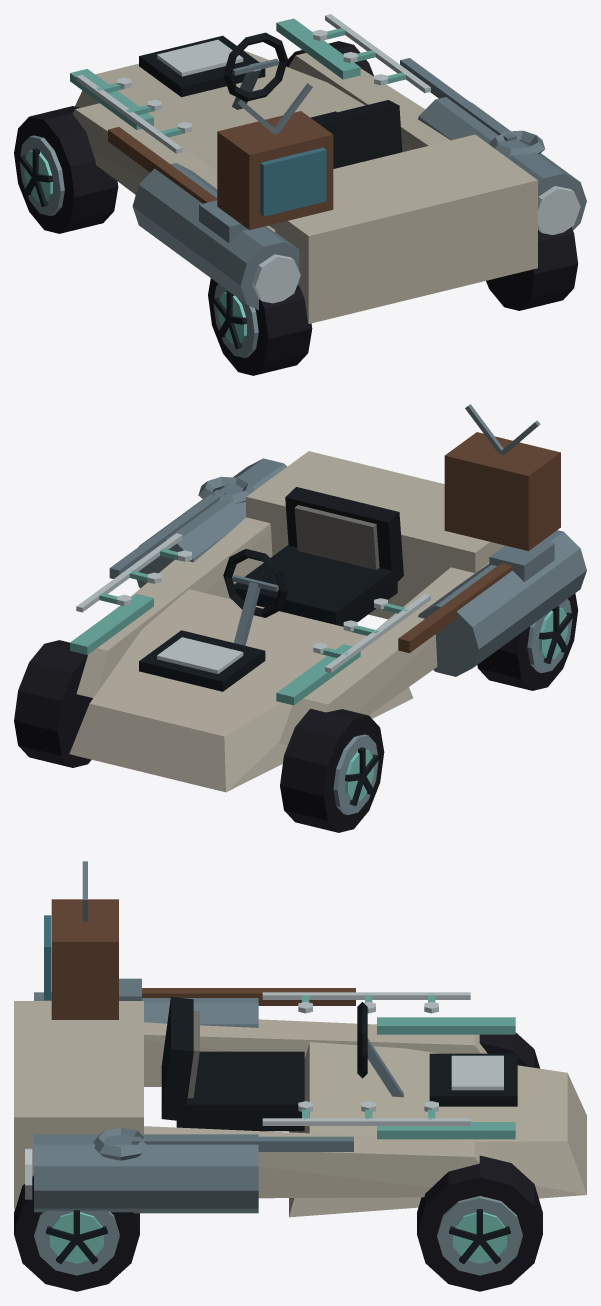
Rendered from kart.glb.
3 renders of one model, top to bottom at view 1: azimuth 30°, elevation 25°; view 2: azimuth 150°, elevation 25°; view 3: azimuth 270°, elevation 25°, orthographic. The views are drawn at different scales.
Parts seen in each view (by area): view 1: identity-lab-pod-lab-pod-segmented-shell, identity-lab-pod-motif-television, wheel-front-left, wheel-rear-left, identity-lab-pod-driver-cockpit, identity-lab-pod-motif-tools, wheel-rear-right, identity-lab-pod-motif-circuit, wheel-front-right; view 2: identity-lab-pod-lab-pod-segmented-shell, identity-lab-pod-driver-cockpit, identity-lab-pod-motif-television, wheel-front-left, wheel-front-right, identity-lab-pod-motif-tools, wheel-rear-left, identity-lab-pod-motif-circuit; view 3: identity-lab-pod-lab-pod-segmented-shell, identity-lab-pod-driver-cockpit, wheel-front-right, identity-lab-pod-motif-television, wheel-rear-right, identity-lab-pod-motif-tools, identity-lab-pod-motif-circuit, wheel-front-left.
Boxes of the visible parts, <box> form: identity-lab-pod-lab-pod-segmented-shell: <box>70,18,586,323</box>; identity-lab-pod-motif-television: <box>217,83,333,229</box>; wheel-front-left: <box>14,106,118,233</box>; wheel-rear-left: <box>208,278,312,375</box>; identity-lab-pod-driver-cockpit: <box>223,32,402,168</box>; identity-lab-pod-motif-tools: <box>108,58,544,243</box>; wheel-rear-right: <box>486,227,578,310</box>; identity-lab-pod-motif-circuit: <box>76,14,430,153</box>; wheel-front-right: <box>286,41,373,76</box>; identity-lab-pod-lab-pod-segmented-shell: <box>69,451,586,792</box>; identity-lab-pod-driver-cockpit: <box>223,487,403,645</box>; identity-lab-pod-motif-television: <box>444,404,560,550</box>; wheel-front-left: <box>280,708,384,832</box>; wheel-front-right: <box>14,640,92,767</box>; identity-lab-pod-motif-tools: <box>109,476,554,652</box>; wheel-rear-left: <box>477,593,578,690</box>; identity-lab-pod-motif-circuit: <box>76,533,430,672</box>; identity-lab-pod-lab-pod-segmented-shell: <box>14,992,586,1217</box>; identity-lab-pod-driver-cockpit: <box>161,997,403,1131</box>; wheel-front-right: <box>417,1155,542,1291</box>; identity-lab-pod-motif-television: <box>44,861,118,1019</box>; wheel-rear-right: <box>14,1175,139,1291</box>; identity-lab-pod-motif-tools: <box>93,978,355,1160</box>; identity-lab-pod-motif-circuit: <box>262,992,470,1125</box>; wheel-front-left: <box>479,1032,539,1068</box>.
Bounding box in the file's own units: 1.98 × 1.46 × 2.73.
